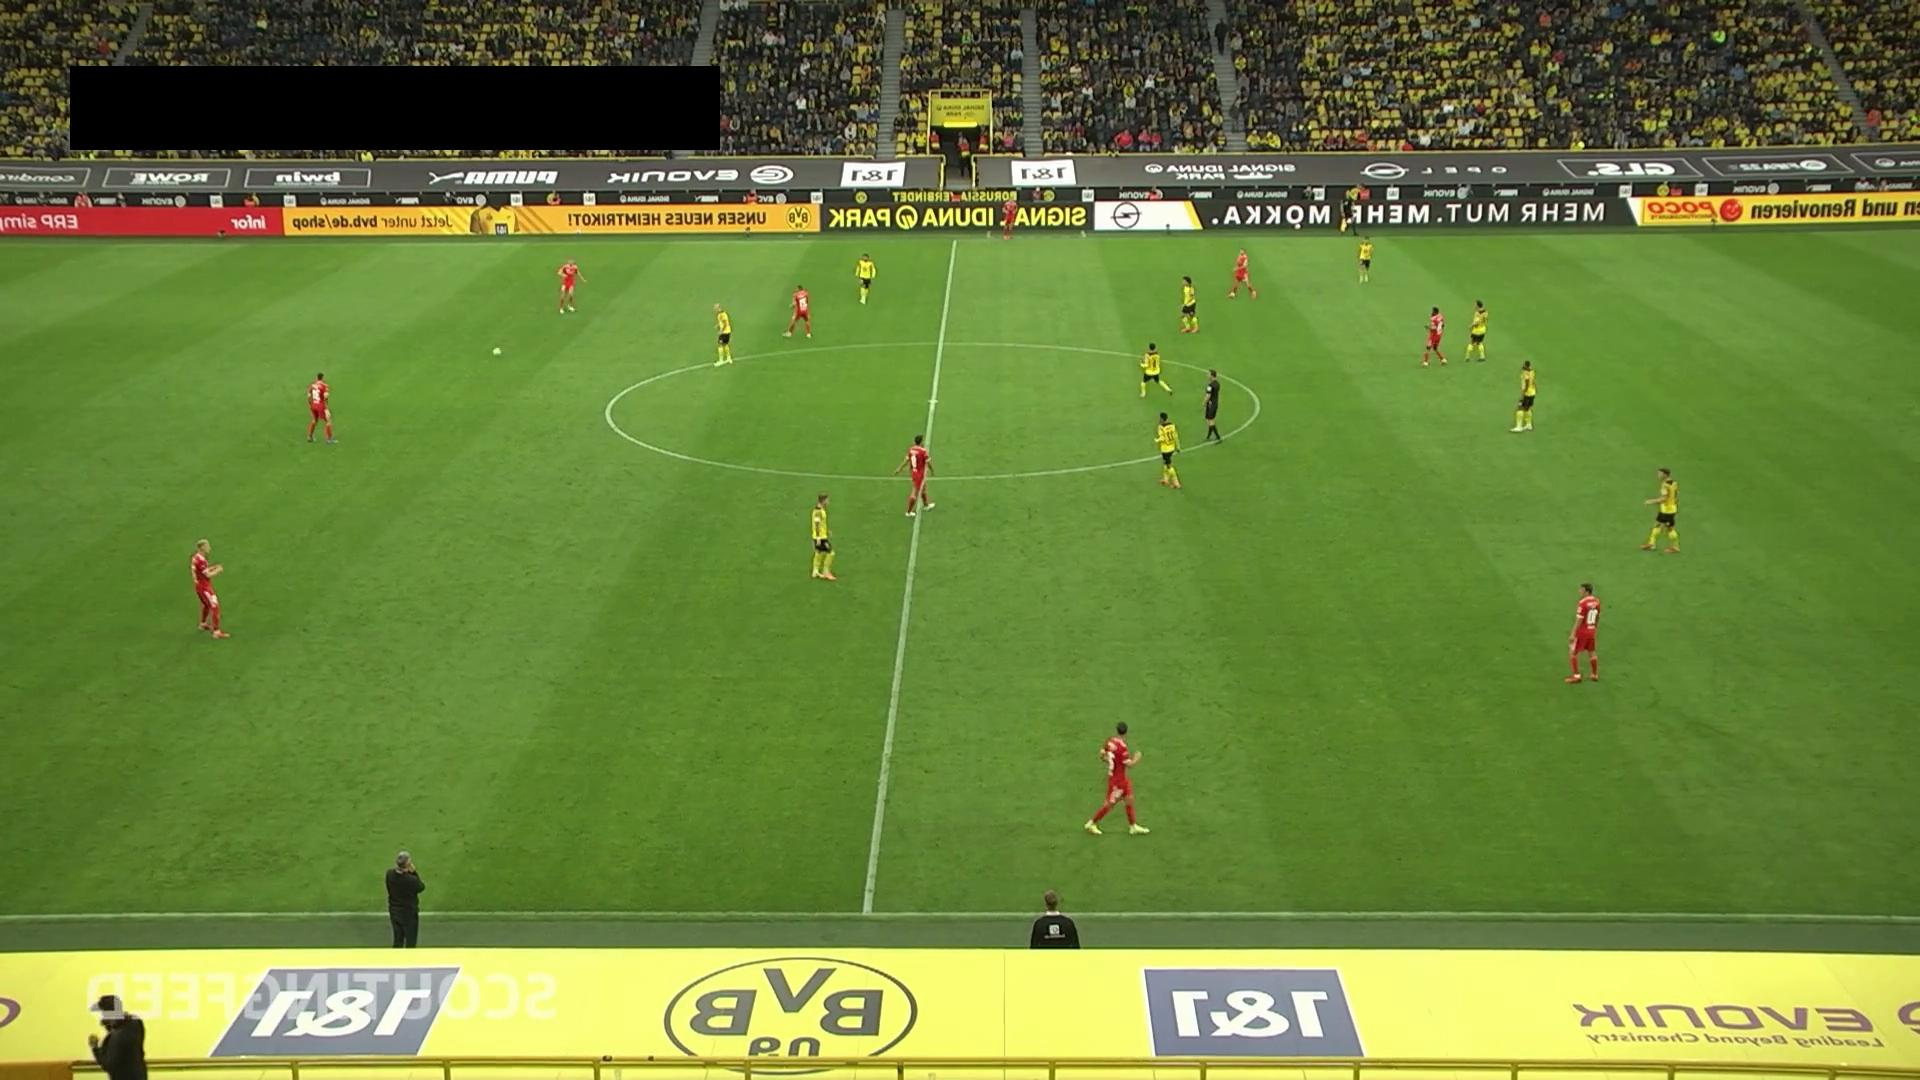ball: (491, 345, 504, 360)
player: (1083, 720, 1151, 836), (191, 538, 229, 639), (1565, 581, 1602, 684), (1640, 467, 1681, 554), (893, 434, 936, 516), (810, 492, 838, 580), (306, 372, 338, 443), (1153, 411, 1182, 489), (1139, 342, 1173, 398), (1512, 359, 1538, 432), (1420, 305, 1449, 367), (556, 258, 586, 314), (1227, 248, 1258, 300), (783, 283, 812, 338), (1463, 299, 1488, 362), (712, 302, 733, 366), (853, 252, 877, 305), (1179, 275, 1199, 334), (1356, 234, 1375, 286), (1001, 197, 1018, 240)
referee: (1200, 369, 1223, 447), (1337, 188, 1359, 239)
